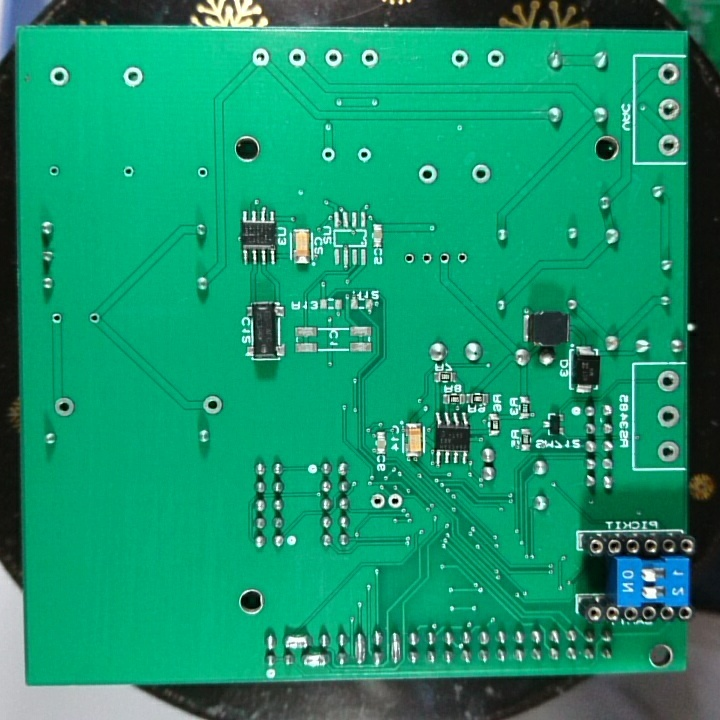F: (119, 63, 147, 92), (46, 63, 73, 90), (657, 130, 682, 158), (656, 438, 681, 466), (657, 403, 681, 431), (249, 44, 274, 69), (415, 161, 439, 187), (657, 96, 681, 122), (657, 368, 681, 394), (448, 48, 471, 75), (657, 62, 681, 87), (51, 395, 75, 419), (286, 46, 309, 71), (468, 161, 491, 186), (485, 45, 506, 72), (359, 46, 382, 70), (200, 393, 222, 418), (323, 46, 342, 71), (355, 144, 374, 166), (319, 145, 338, 165), (436, 247, 453, 269), (386, 491, 403, 512), (368, 492, 386, 511), (85, 310, 104, 328), (417, 249, 435, 267), (48, 309, 65, 328), (120, 163, 136, 182), (454, 248, 470, 267), (194, 163, 209, 183), (46, 162, 62, 180), (402, 248, 417, 267)
P: (282, 629, 312, 649), (387, 630, 403, 666), (299, 650, 329, 669), (351, 632, 368, 665)
